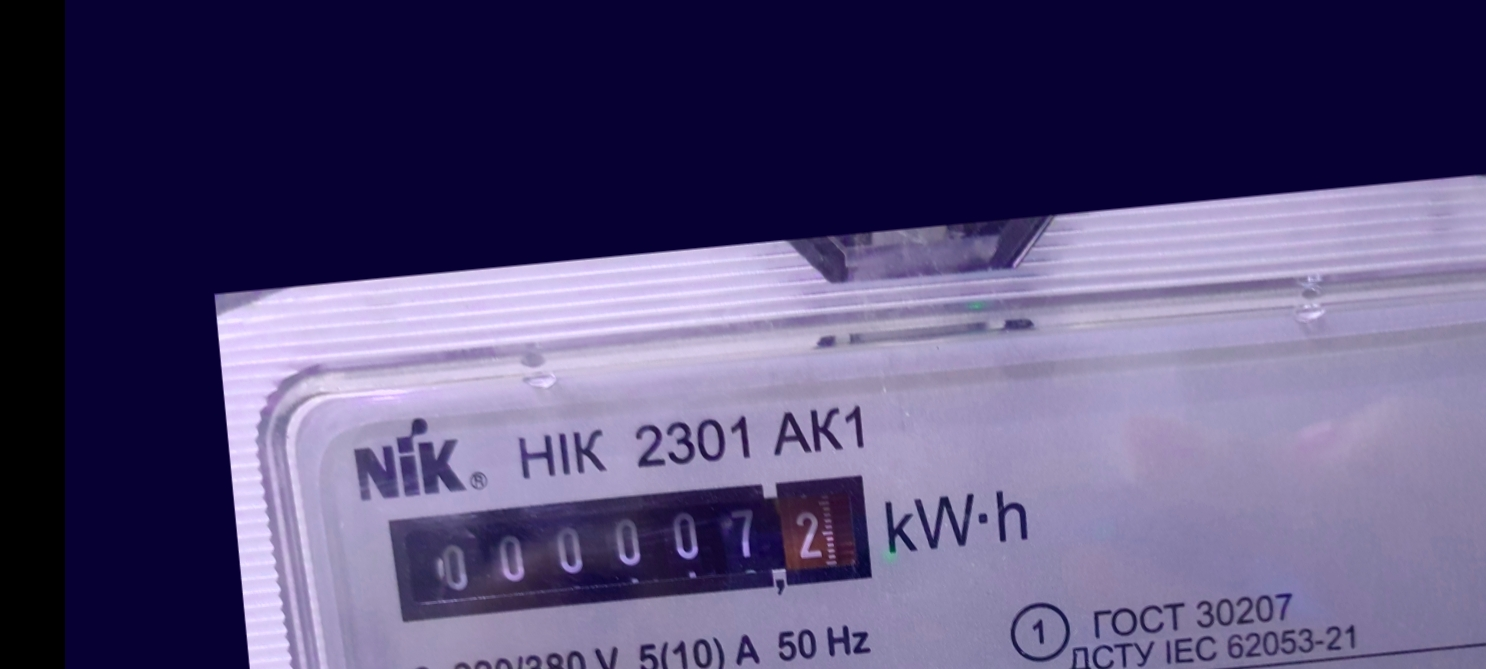0: (492, 529, 532, 584), (668, 508, 705, 563), (610, 513, 646, 569), (437, 539, 473, 593), (553, 521, 588, 576)
2: (792, 508, 827, 561)
7: (726, 504, 761, 561)
screen: (370, 454, 895, 643)
